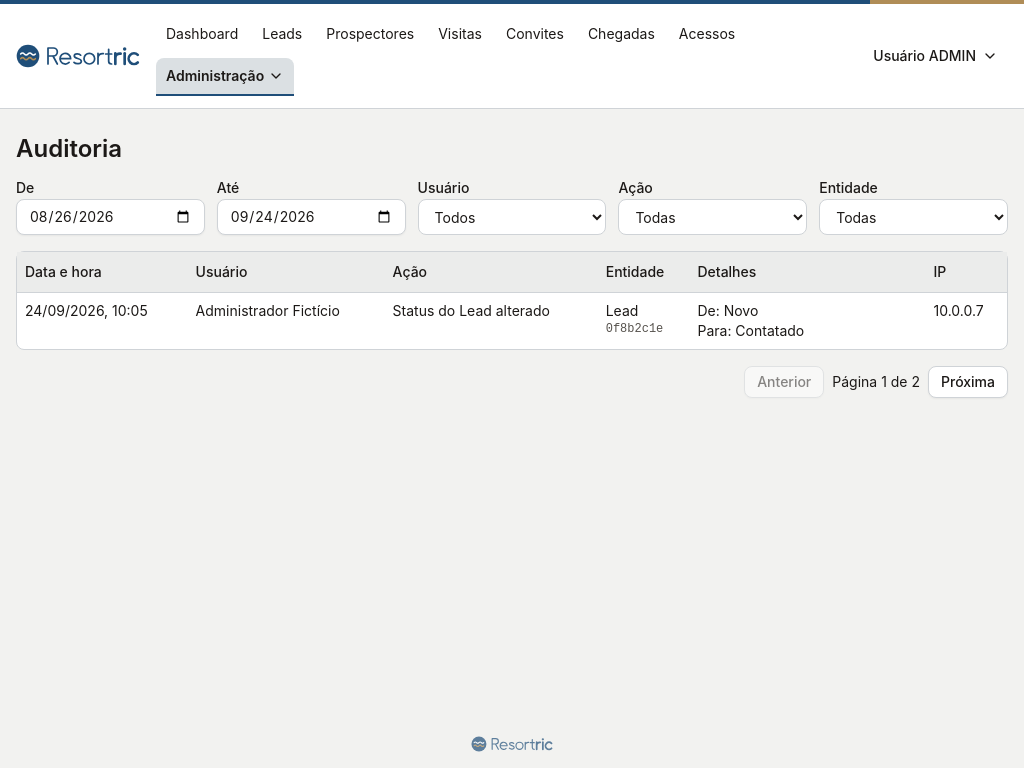
XF4 — filtros e paginação › os filtros viram parâmetros da API e trocar de página mantém os filtros
Check: the table is shown, box [17,252,1007,348]
In the date field labelled "De": (110, 217) [16,199,205,235], type "2026-09-01"
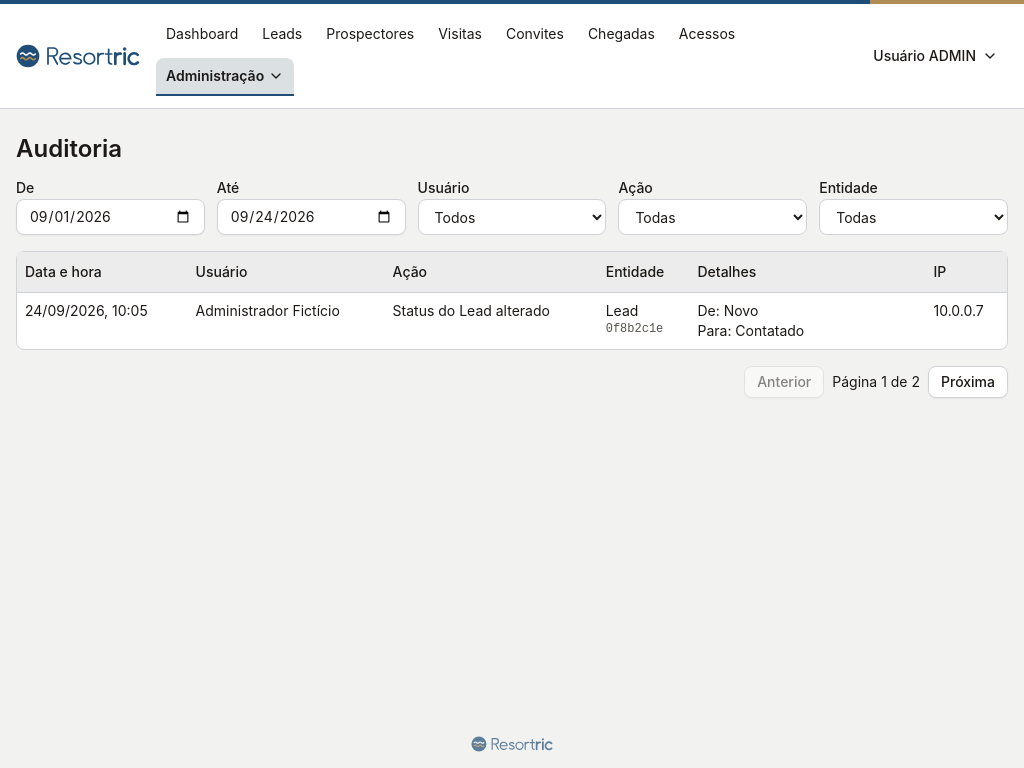
Select "Porteiro Fictício" in the dropdown labelled "Usuário": (512, 217) [418,199,606,235]
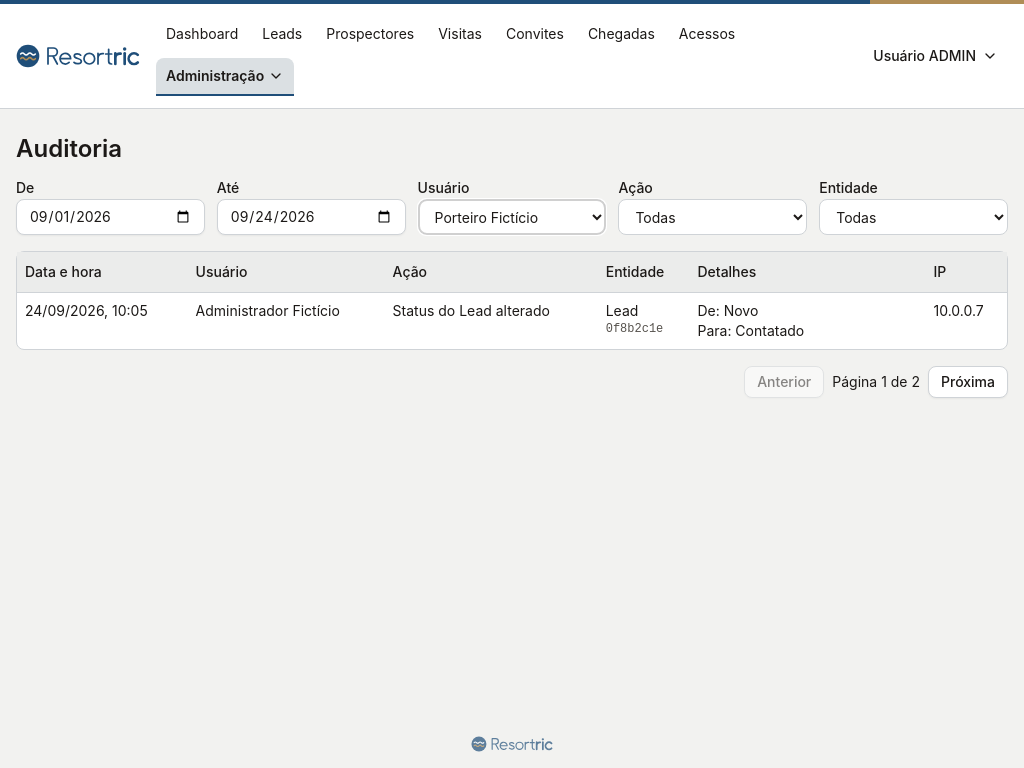
Select "Acesso negado" in the dropdown labelled "Ação": (713, 217) [618,199,807,235]
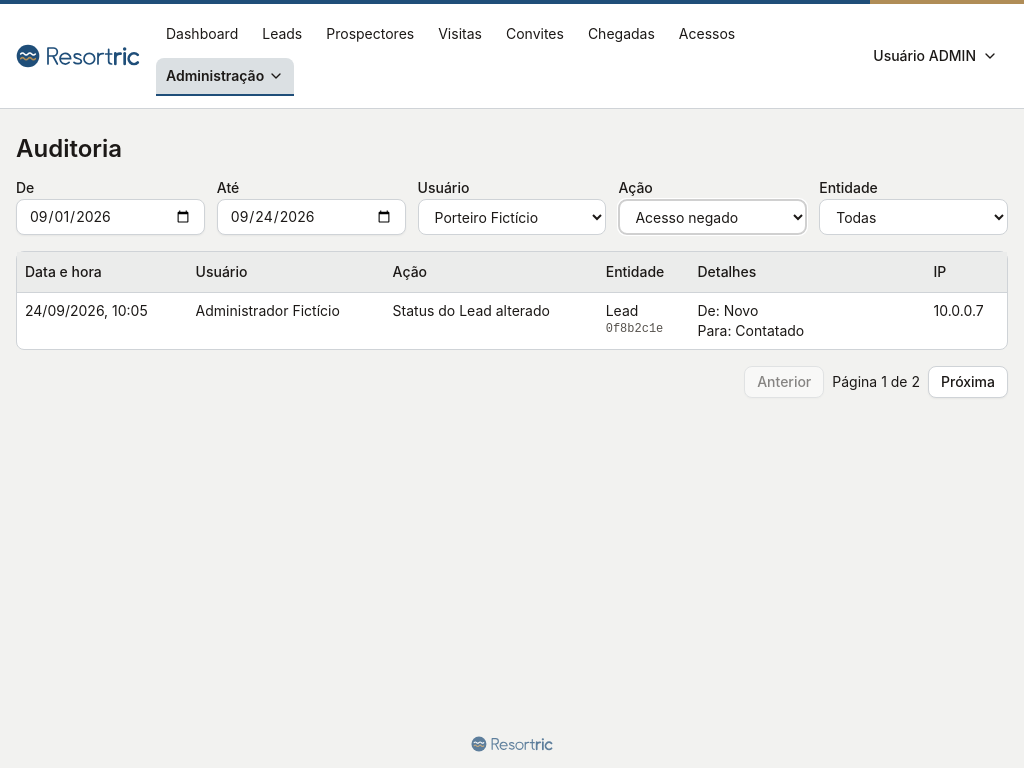
Select "Acesso" in the dropdown labelled "Entidade": (914, 217) [819,199,1008,235]
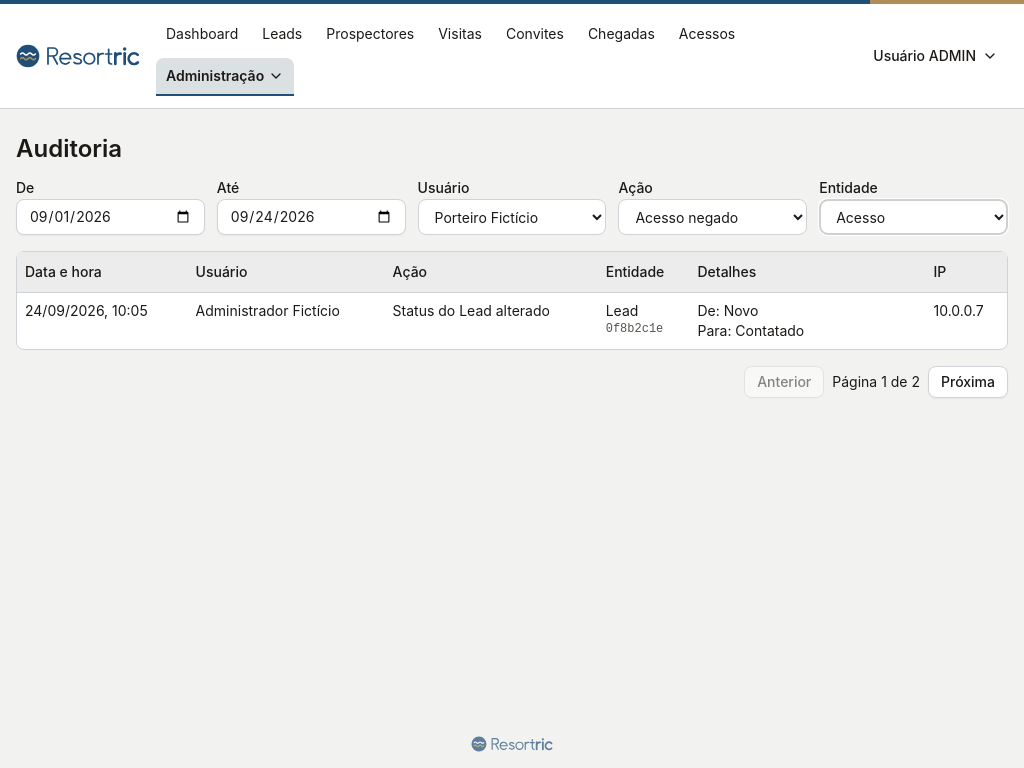
Click the button "Próxima": click(968, 382) [928,366,1008,398]
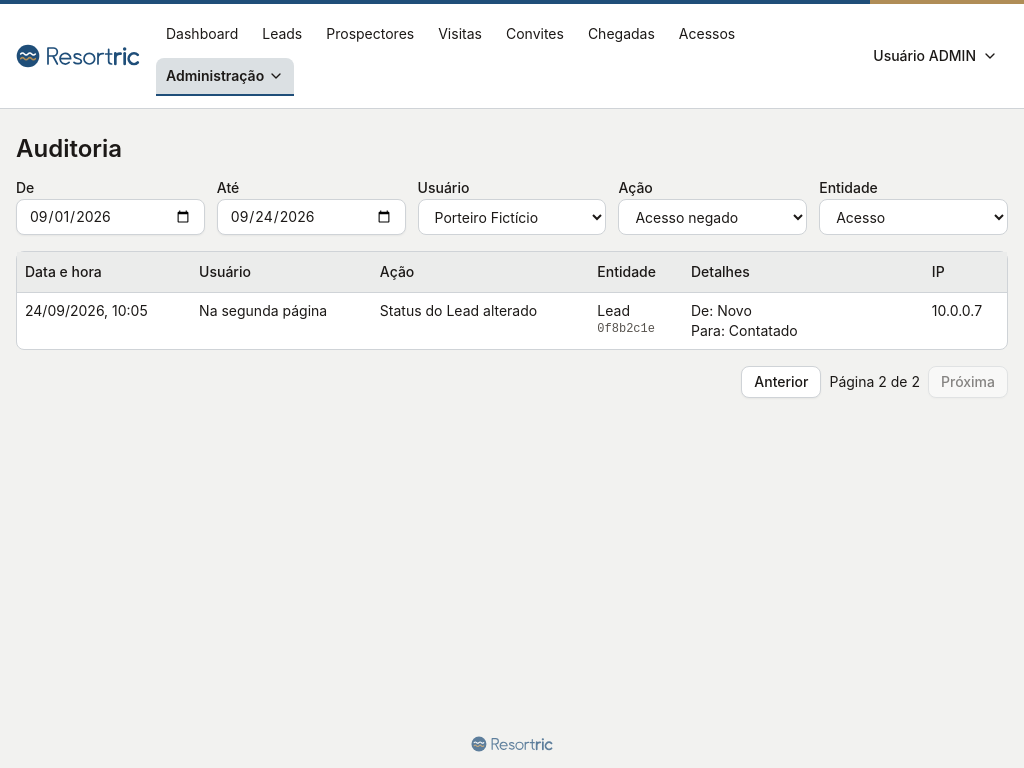
Check: the text "Na segunda página" is shown, box [191,292,372,348]
